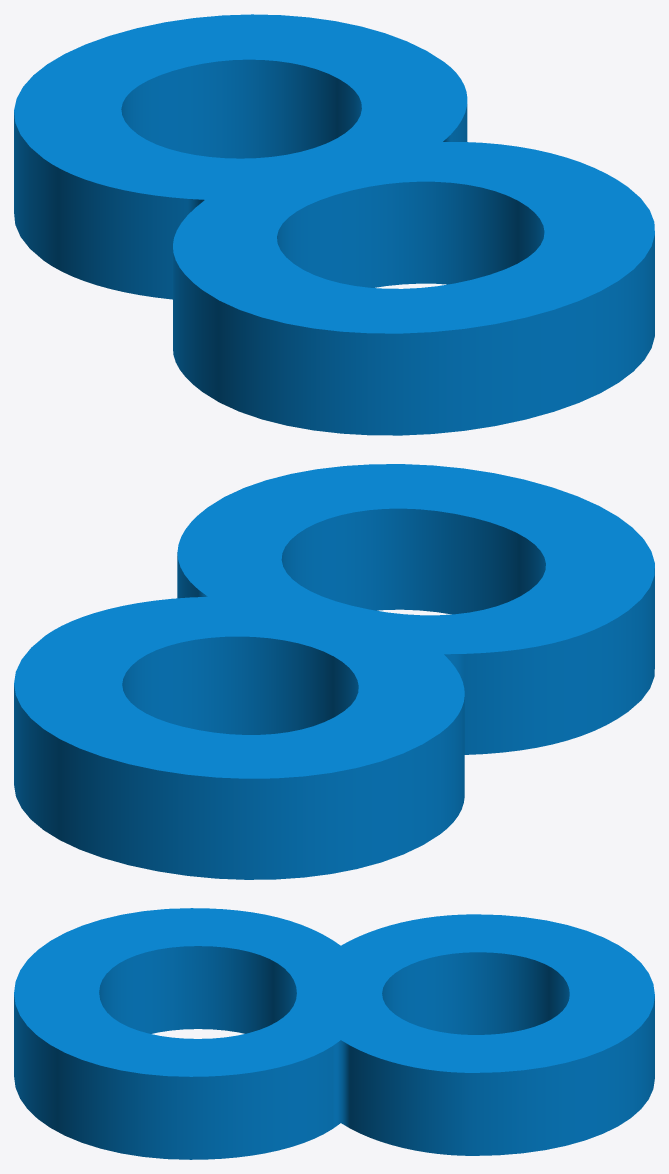
File: Eight.fbx
The picture shows the model from 3 angles, top to bottom: view 1: azimuth 30°, elevation 25°; view 2: azimuth 150°, elevation 25°; view 3: azimuth 270°, elevation 25°; orthographic projection. The views are drawn at different scales.
Parts seen in each view (by area): view 1: Eight; view 2: Eight; view 3: Eight.
Part boxes in pixels (x1,y1,x2,y2): Eight: [14, 14, 654, 435]; Eight: [14, 464, 654, 879]; Eight: [14, 908, 654, 1159].
Size of the model in its own units: 140 by 20 by 87.2.
